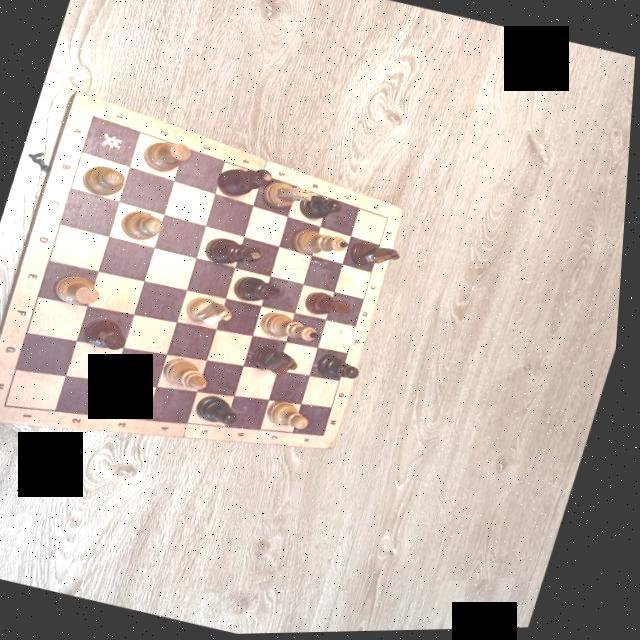chess-table-corners: (2, 398, 18, 412), (322, 431, 338, 442), (88, 109, 102, 121), (385, 213, 396, 223)
